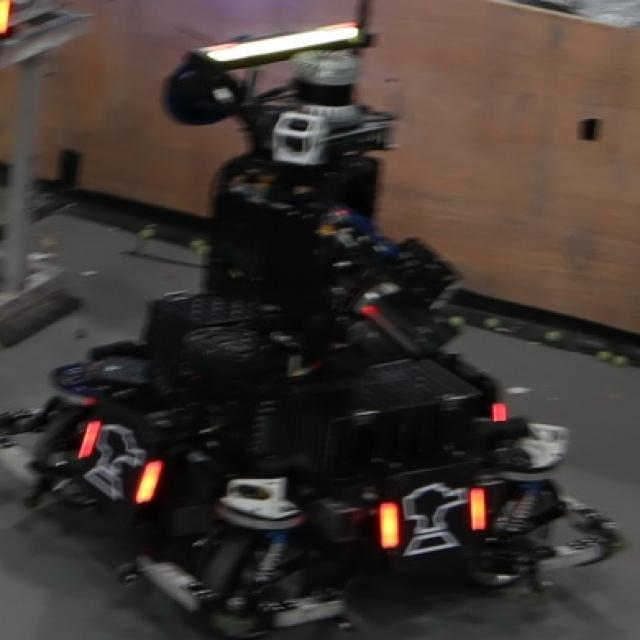Rs: (376, 480, 490, 557), (77, 410, 159, 507)
